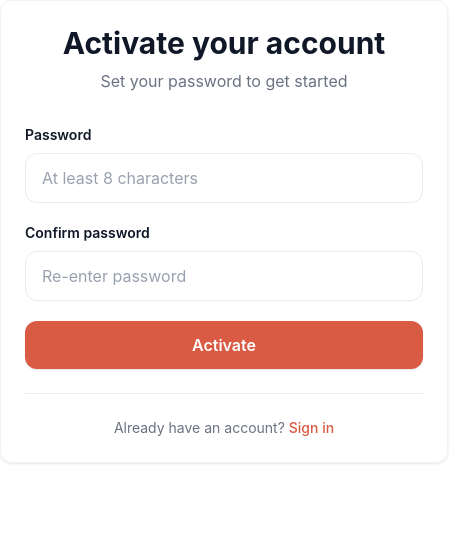
Bundle 3 — Auth Screens › ActivatePage › shows error for short password
The width and height of the screenshot is (465, 547).
Type "123" into the password field labelled "Password". click: coordinates (224, 178)
box: [25, 153, 423, 203]
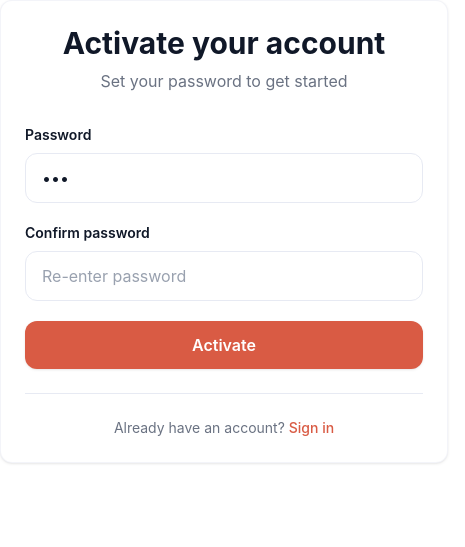
Type "123" into the password field labelled "Confirm password". click: coordinates (224, 276)
box: [25, 251, 423, 301]
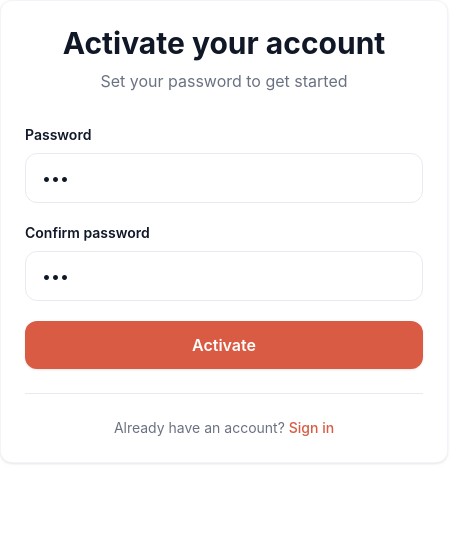
Click the button "Activate". click: coordinates (224, 345)
box: [25, 321, 423, 369]
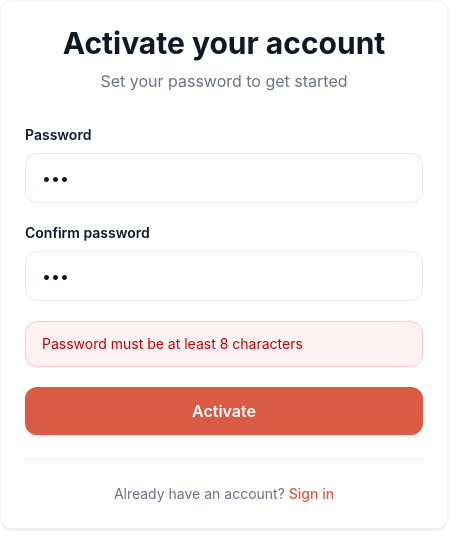
Check: the text "Password must be at least 8 characters" is shown, box [25, 321, 423, 367]
